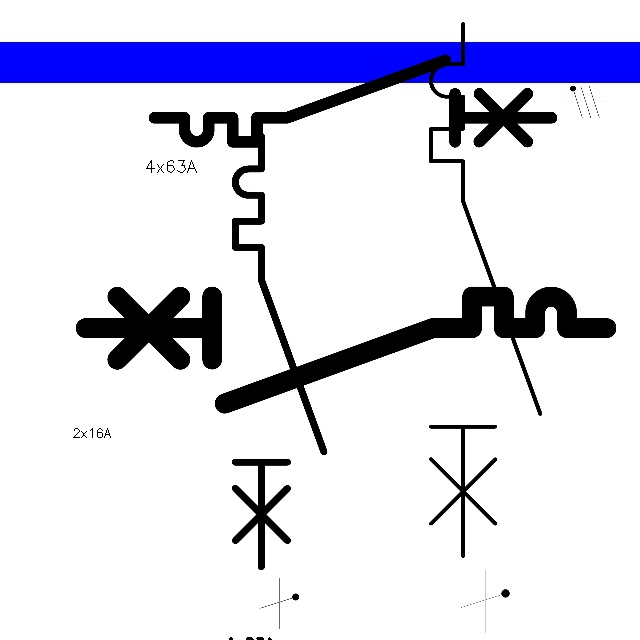interruptor_termomagnetico: (417, 10, 554, 569), (72, 283, 620, 417), (224, 125, 335, 578), (144, 50, 562, 152)
